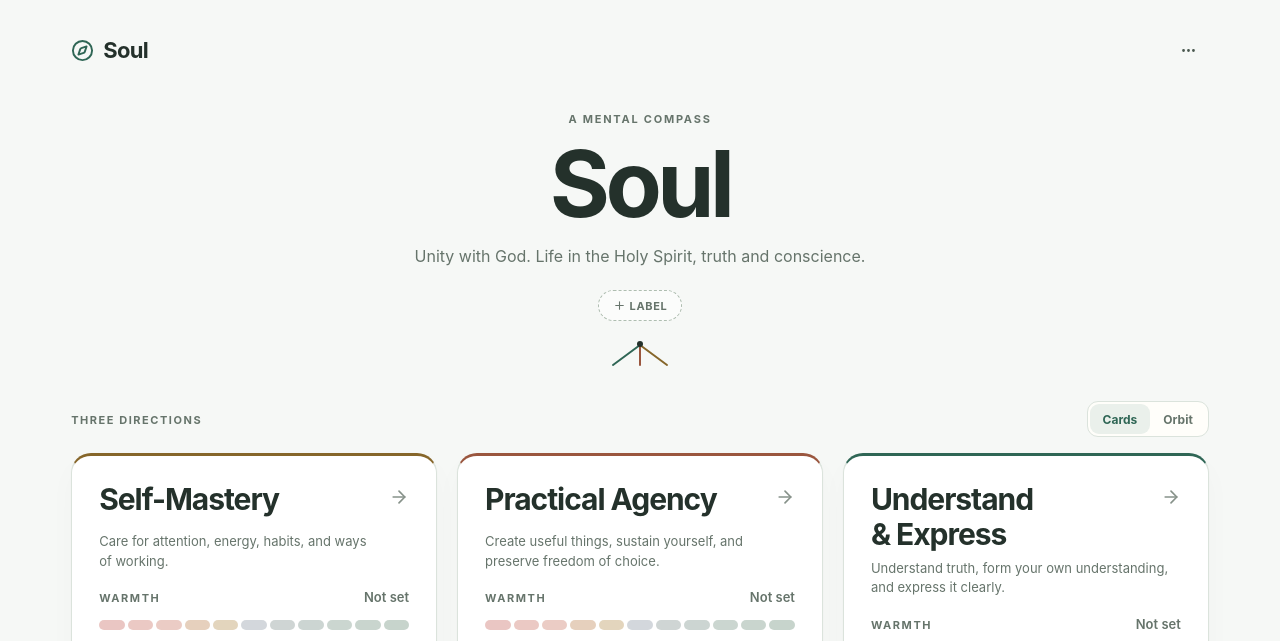
Test case: Soul compass › zooms from a cluster into a goal without requiring extra fields
The width and height of the screenshot is (1280, 641).
Check: the heading "Soul" is shown, box [550, 128, 730, 239]
Click the button "Practical Agency".
click(640, 504)  # box [485, 482, 795, 526]
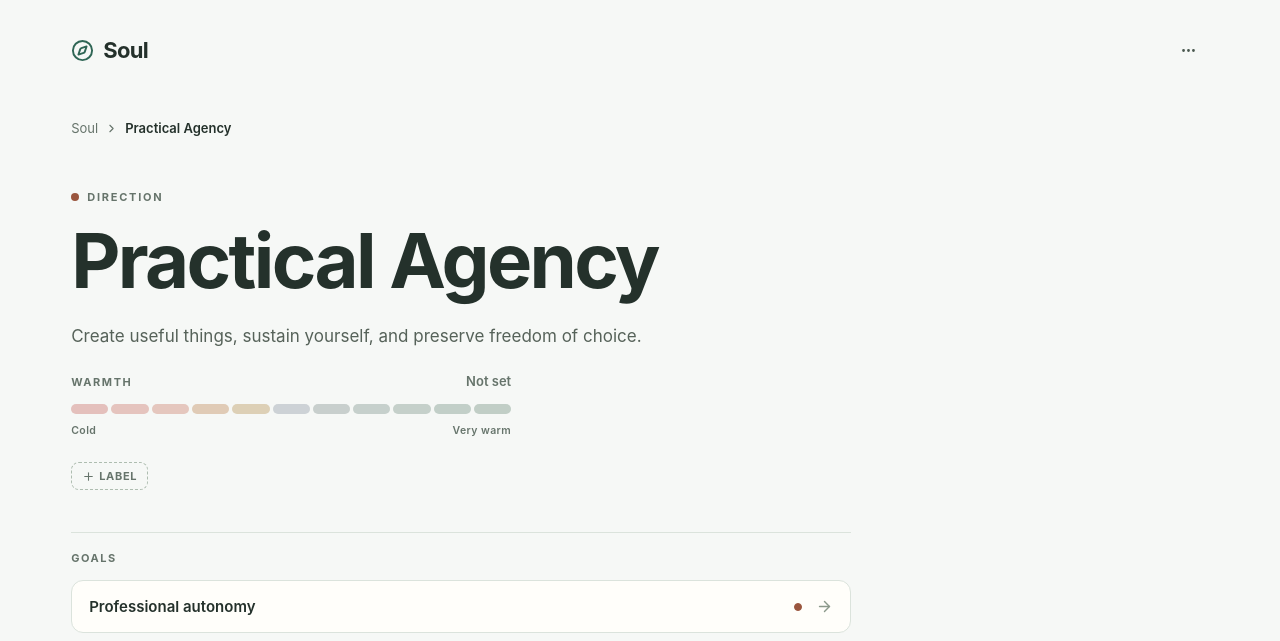
Click the button "Professional autonomy".
click(172, 607)  # box [71, 580, 851, 633]
(page scrolled)
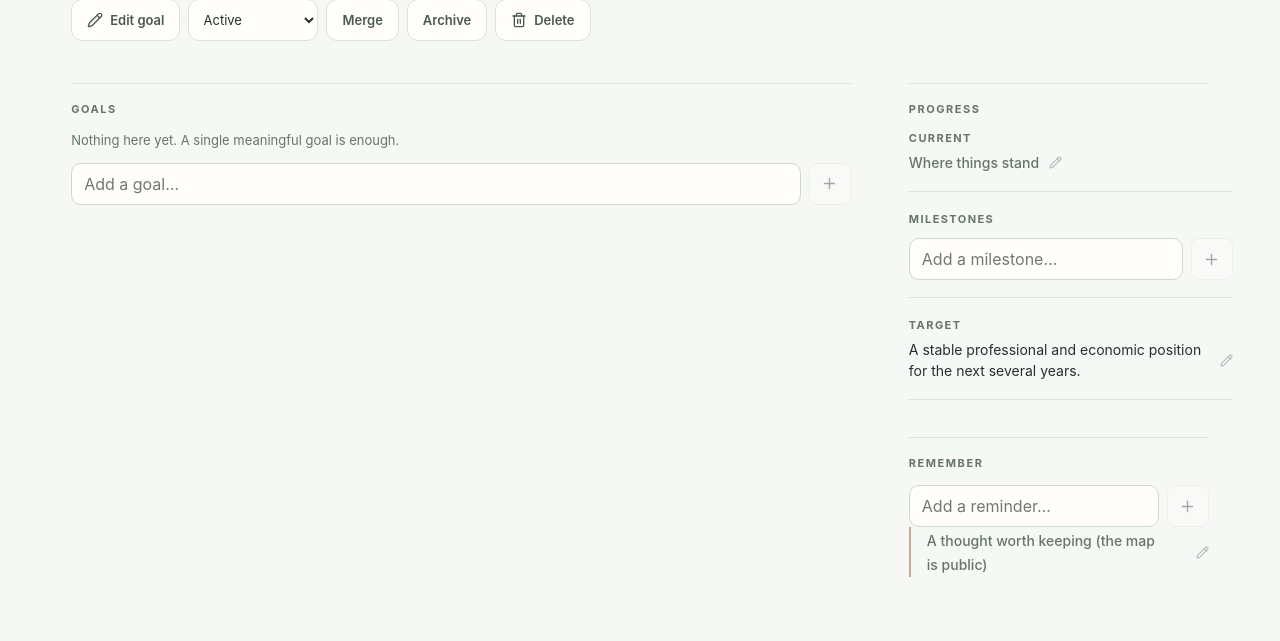
Check: the text "stable professional and economic position" is shown, box [909, 341, 1205, 379]
